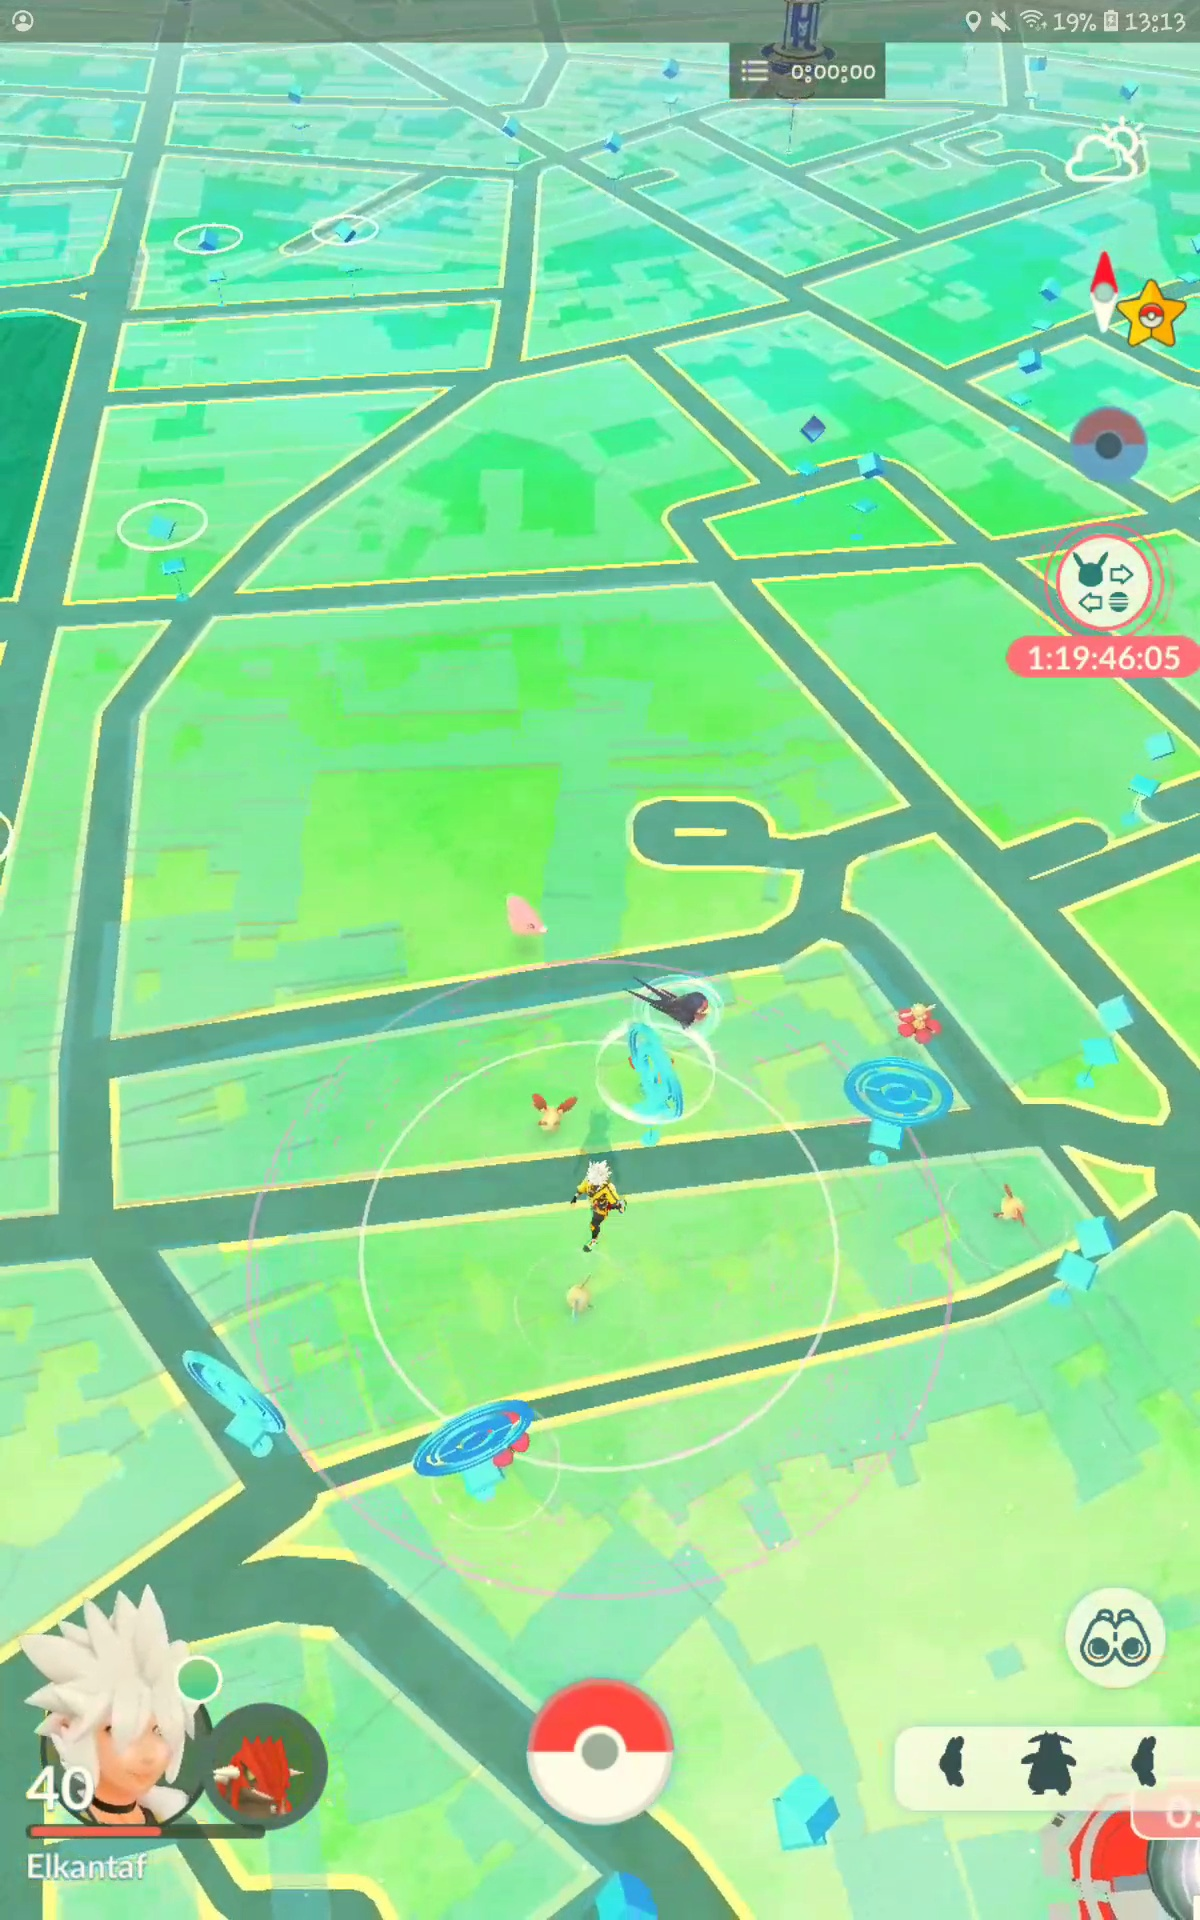Pokemon: (626, 973, 722, 1035), (488, 885, 561, 952), (521, 1086, 588, 1139), (984, 1179, 1040, 1241), (892, 995, 954, 1049), (559, 1270, 603, 1324)
